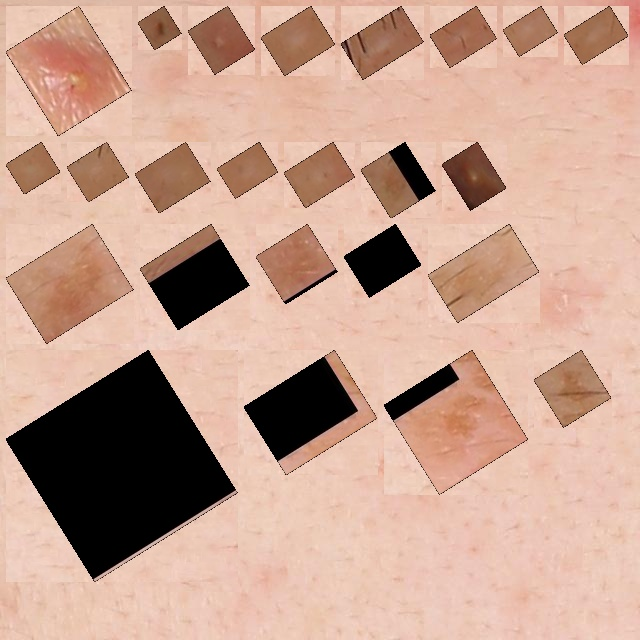hypertrophic_scar: (352, 17, 412, 68), (146, 153, 199, 202), (272, 17, 324, 64), (295, 153, 344, 196), (441, 17, 486, 56), (78, 153, 118, 191), (575, 17, 617, 53), (228, 153, 267, 187), (17, 153, 49, 183), (514, 17, 547, 45)
melasma: (17, 361, 226, 570), (395, 361, 517, 483), (255, 361, 366, 464), (17, 235, 122, 332), (151, 235, 238, 319), (439, 235, 528, 311), (267, 235, 326, 293), (545, 361, 600, 416), (372, 153, 424, 207), (355, 235, 410, 286)
nevus: (149, 17, 170, 39)
pustule: (17, 17, 120, 125), (199, 17, 244, 63), (453, 153, 495, 199)
